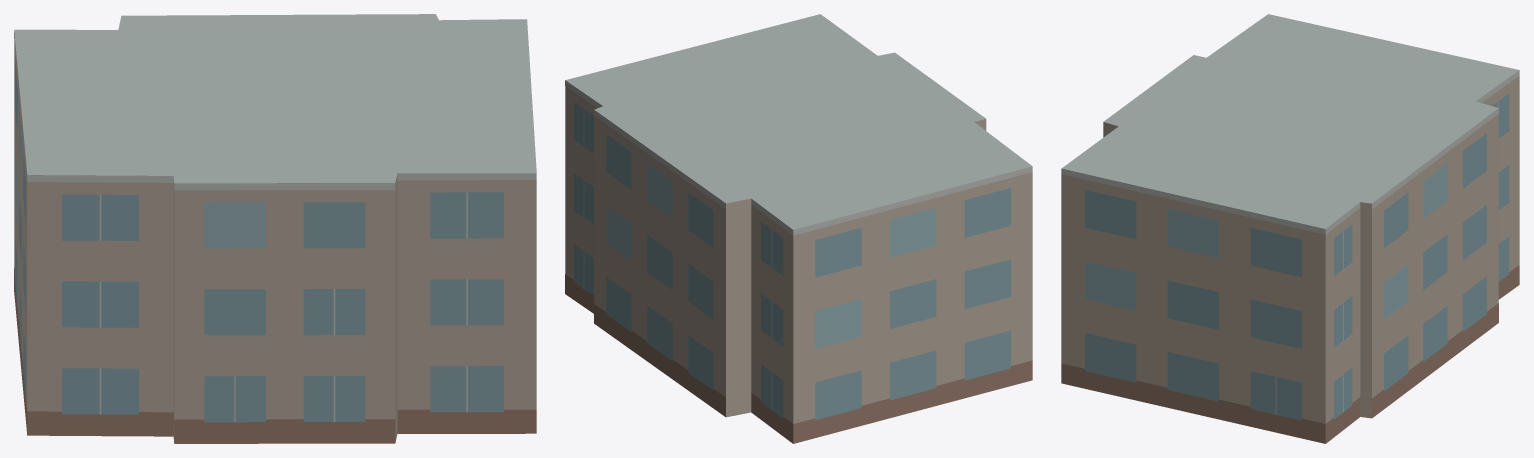
Rendered from survey-upis-33012038.glb.
3 renders of one model, left to right at view 1: azimuth 30°, elevation 25°; view 2: azimuth 150°, elevation 25°; view 3: azimuth 270°, elevation 25°, orthographic. The views are drawn at different scales.
Visible parts, largest first — view 1: survey-upis-33012038.tmp; view 2: survey-upis-33012038.tmp; view 3: survey-upis-33012038.tmp.
Part boxes in pixels (box(x1,y1,x2,y2)): survey-upis-33012038.tmp: box(14, 14, 536, 443); survey-upis-33012038.tmp: box(565, 14, 1032, 443); survey-upis-33012038.tmp: box(1061, 14, 1519, 443).
Bounding box in the file's own units: 19.66 × 9.15 × 17.69.
